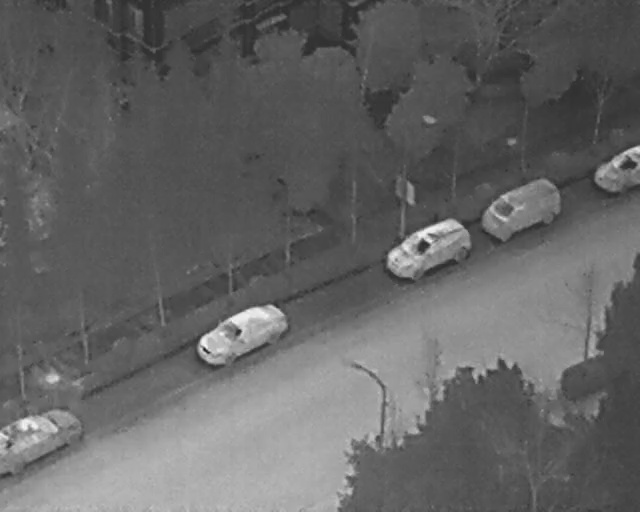Car: (186, 290, 294, 378), (375, 209, 478, 294), (473, 169, 568, 250), (0, 406, 82, 475), (591, 143, 639, 196)
